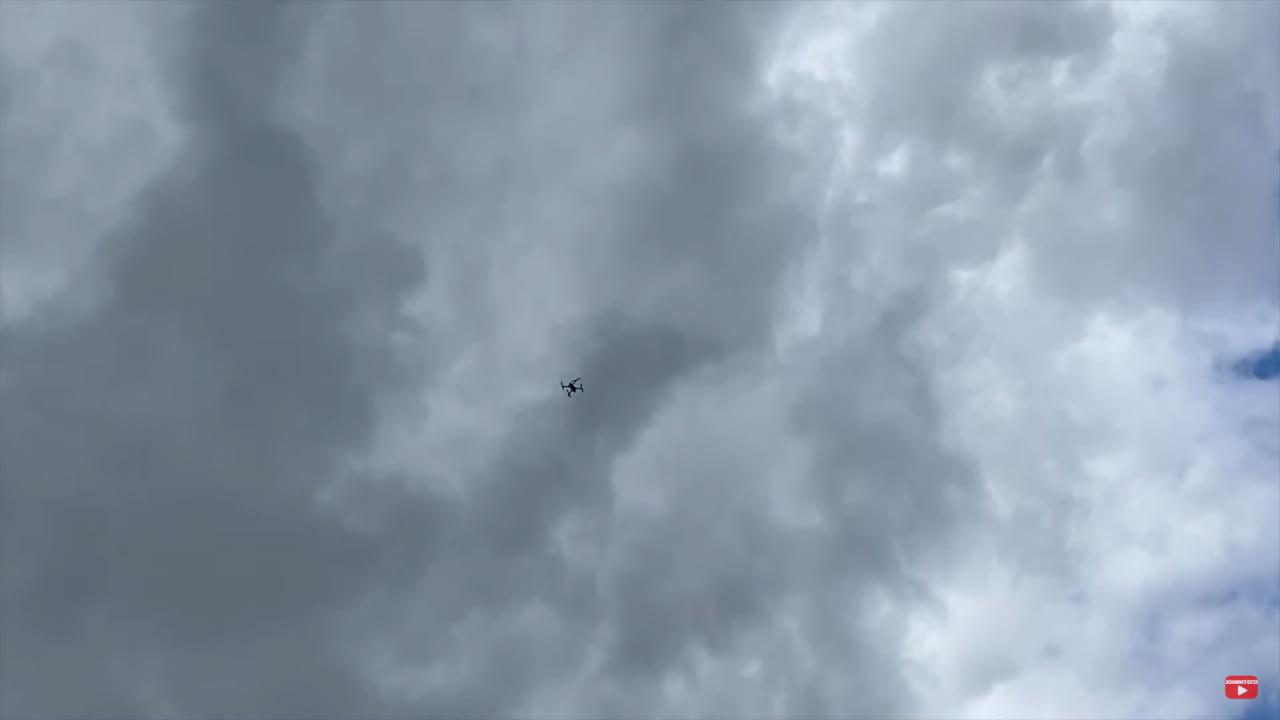Drone: (550, 368, 593, 406)
